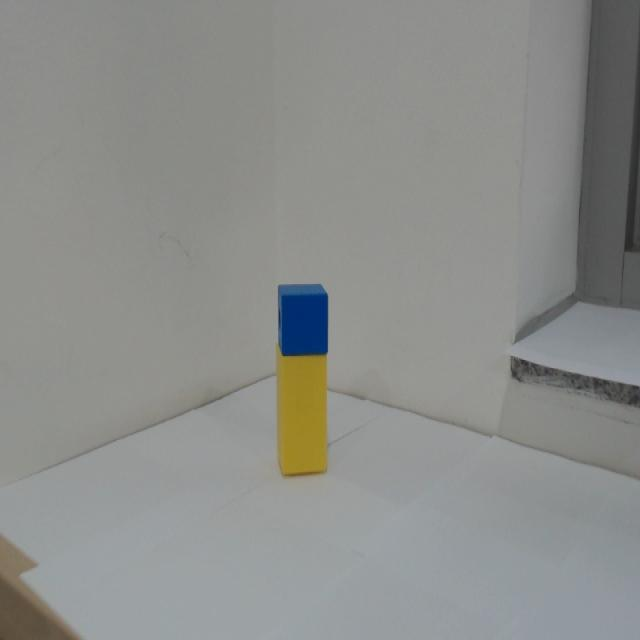cube: (275, 280, 329, 357)
